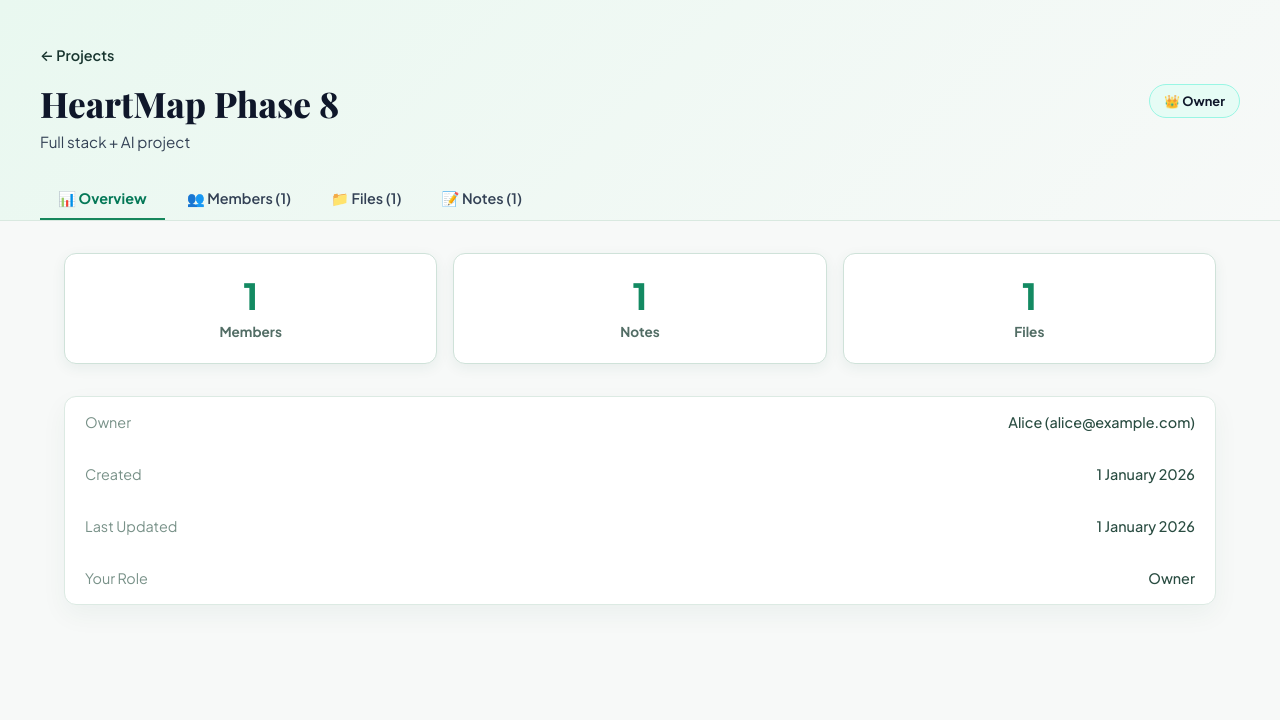
Test: ProjectDetailPage › clicking New Note opens note editor
The image size is (1280, 720).
Click the button "📝 Notes (1)": point(482, 199) 424,179 -> 540,220
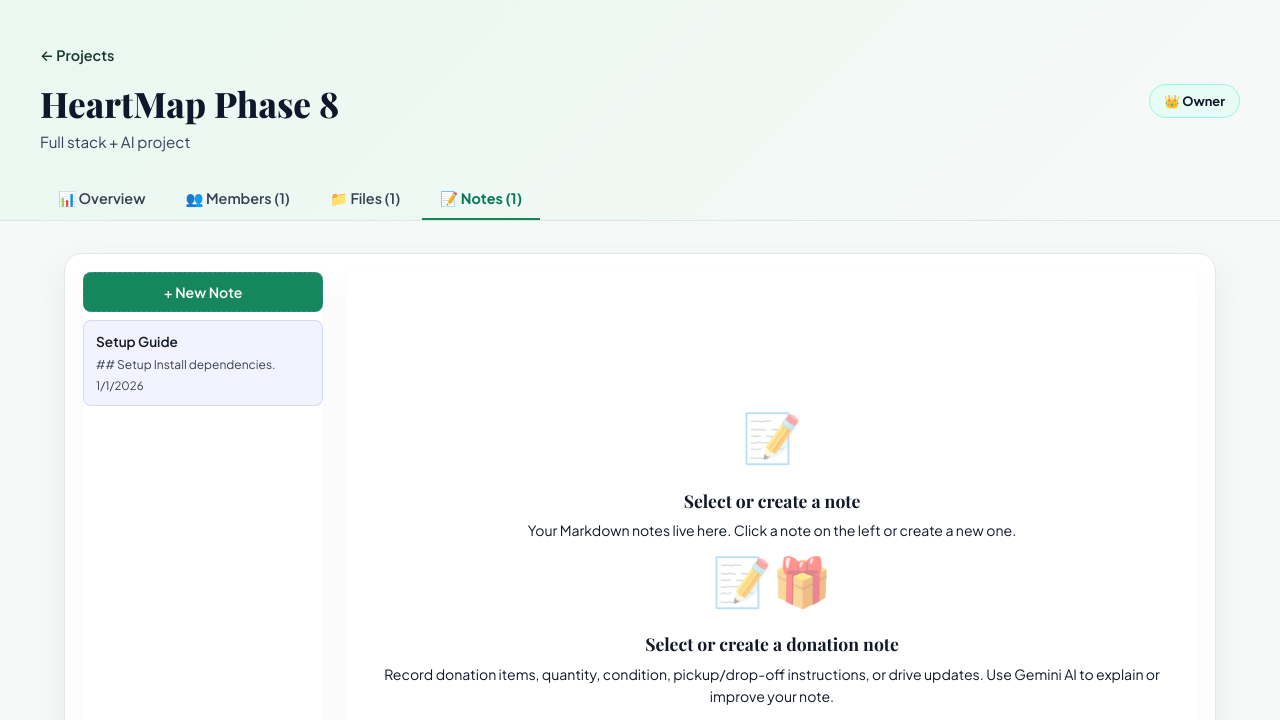
Expected: the button with test id "new-note-btn" is shown
Click the button with test id "new-note-btn": point(203, 292) 83,272 -> 323,312
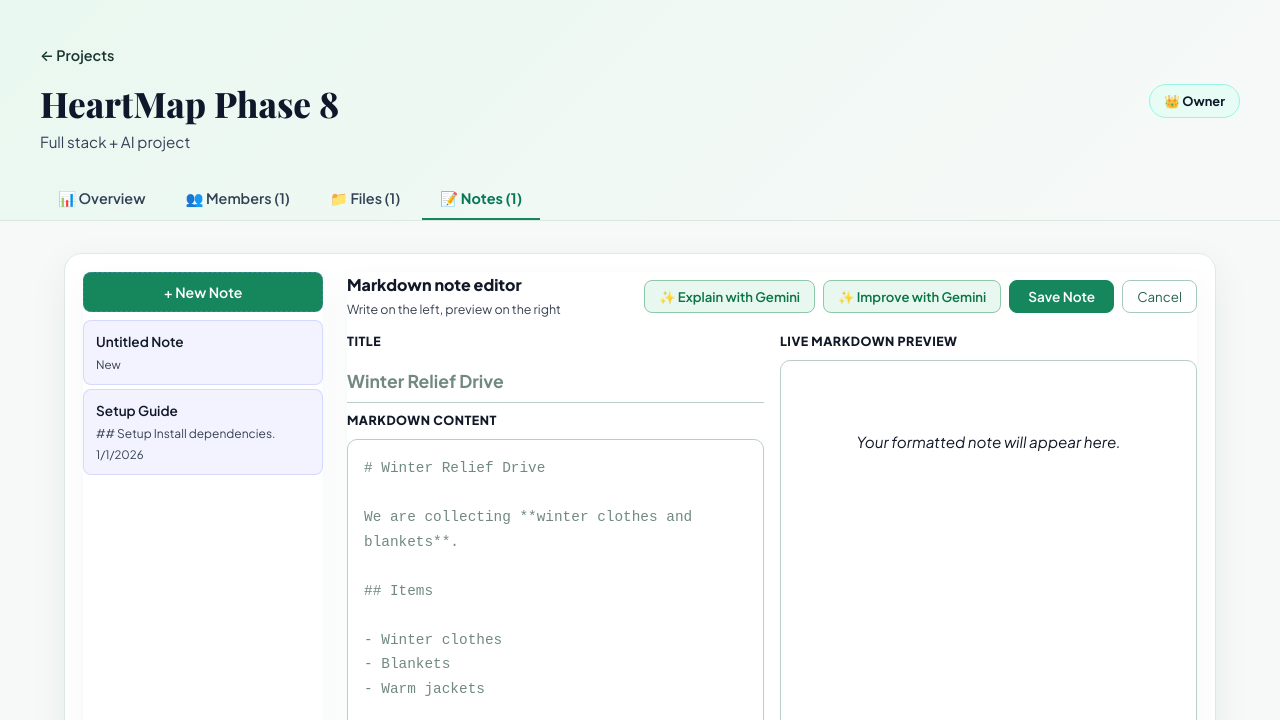
Expected: the field with test id "note-title-input" is shown, 347,360 -> 764,403
